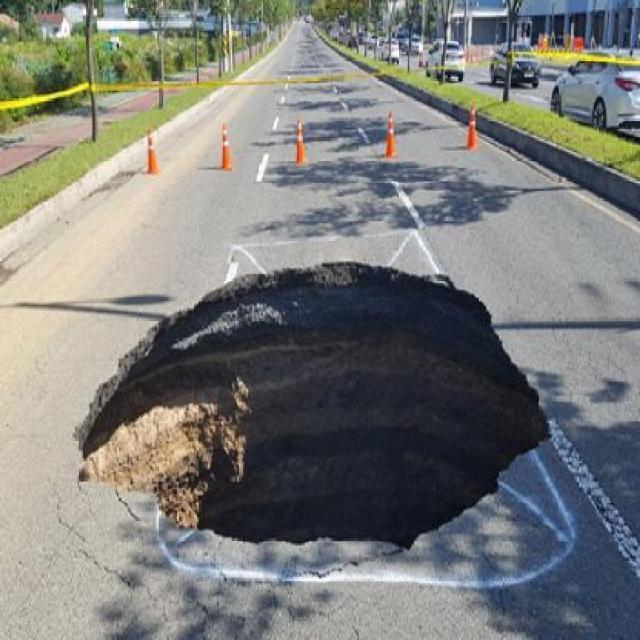pothole: (60, 239, 554, 581)
